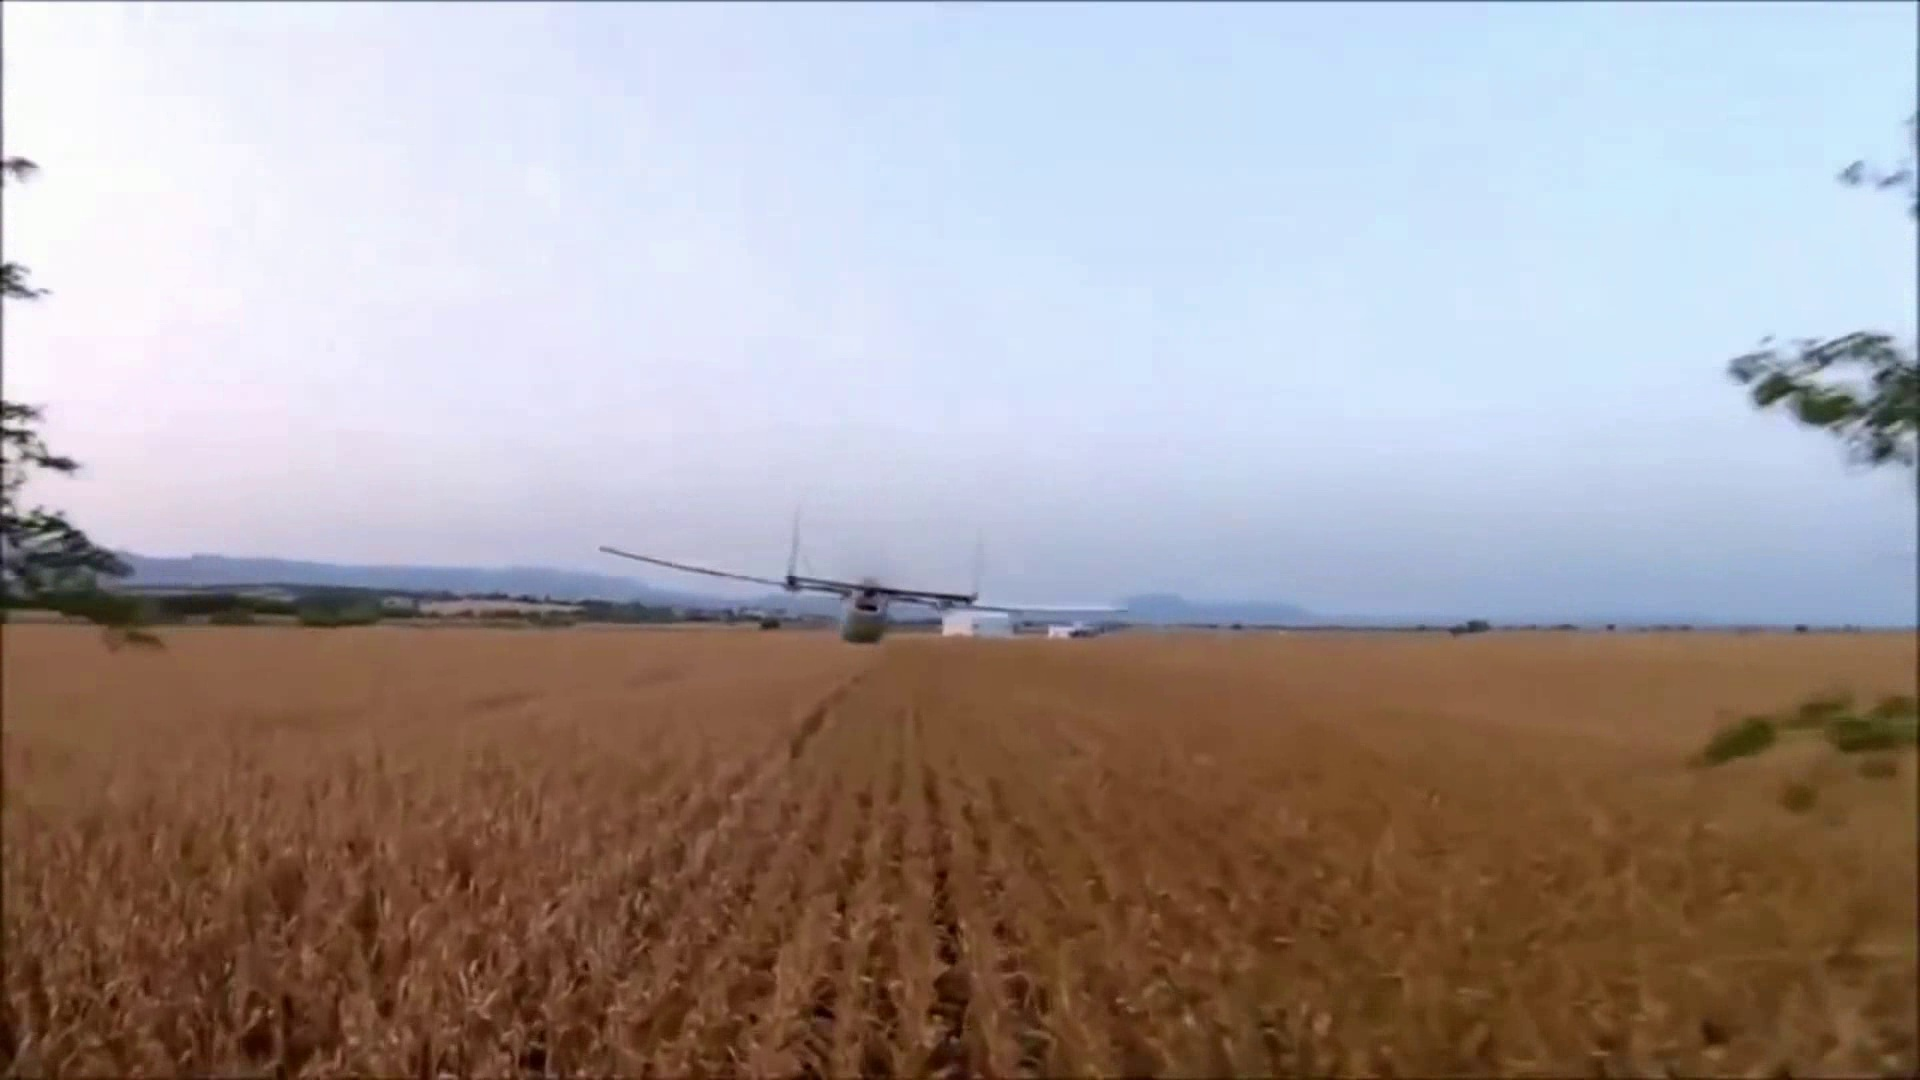airplane: (596, 501, 1112, 644)
